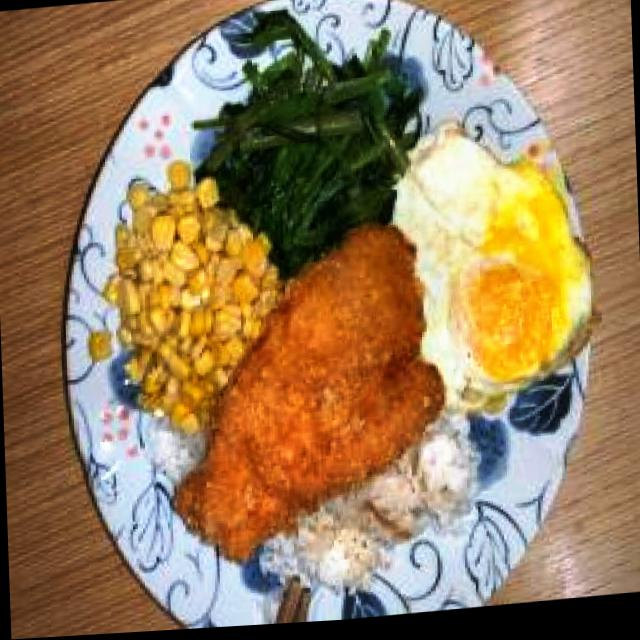fried_chicken: (164, 217, 448, 570)
fried_eggs: (394, 120, 598, 423)
rice: (258, 414, 480, 598)
water_spinach: (200, 3, 429, 281)
